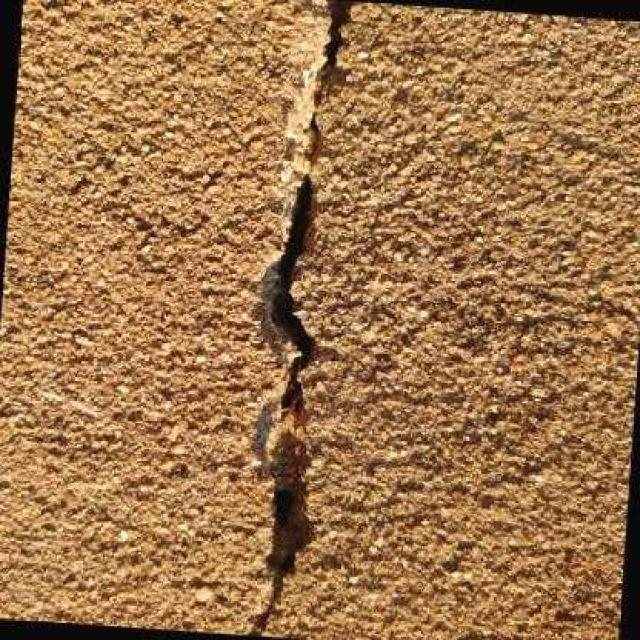D00: (252, 0, 350, 637)
